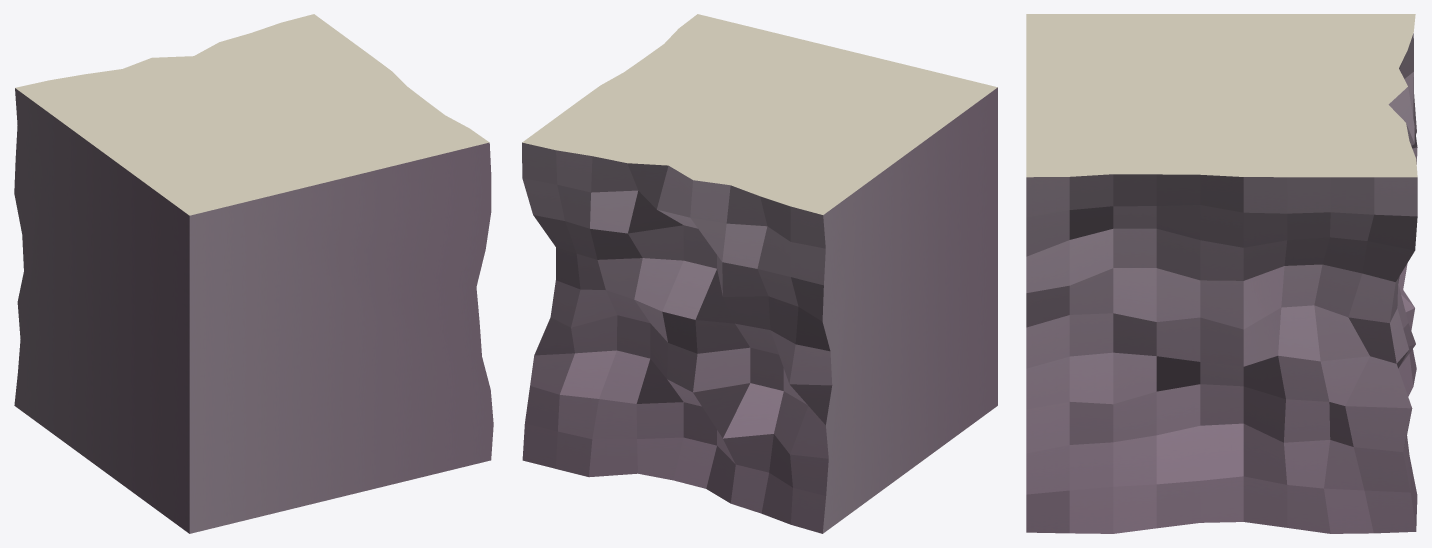
The model's file is cornerTerrainTile3.fbx.
3 renders of one model, left to right at view 1: azimuth 30°, elevation 25°; view 2: azimuth 150°, elevation 25°; view 3: azimuth 270°, elevation 25°, orthographic. The views are drawn at different scales.
Parts seen in each view (by area): view 1: base7.001; view 2: base7.001; view 3: base7.001.
Part boxes in pixels (left/top/right/bottom): base7.001: left=14, top=14, right=493, bottom=533; base7.001: left=522, top=14, right=997, bottom=533; base7.001: left=1026, top=14, right=1417, bottom=533.
Bounding box in the file's own units: 200 × 200 × 200.
